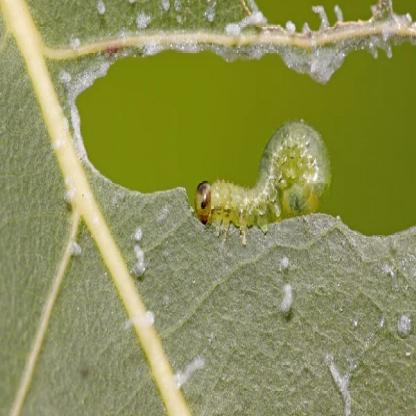sawfly: (188, 113, 332, 230)
